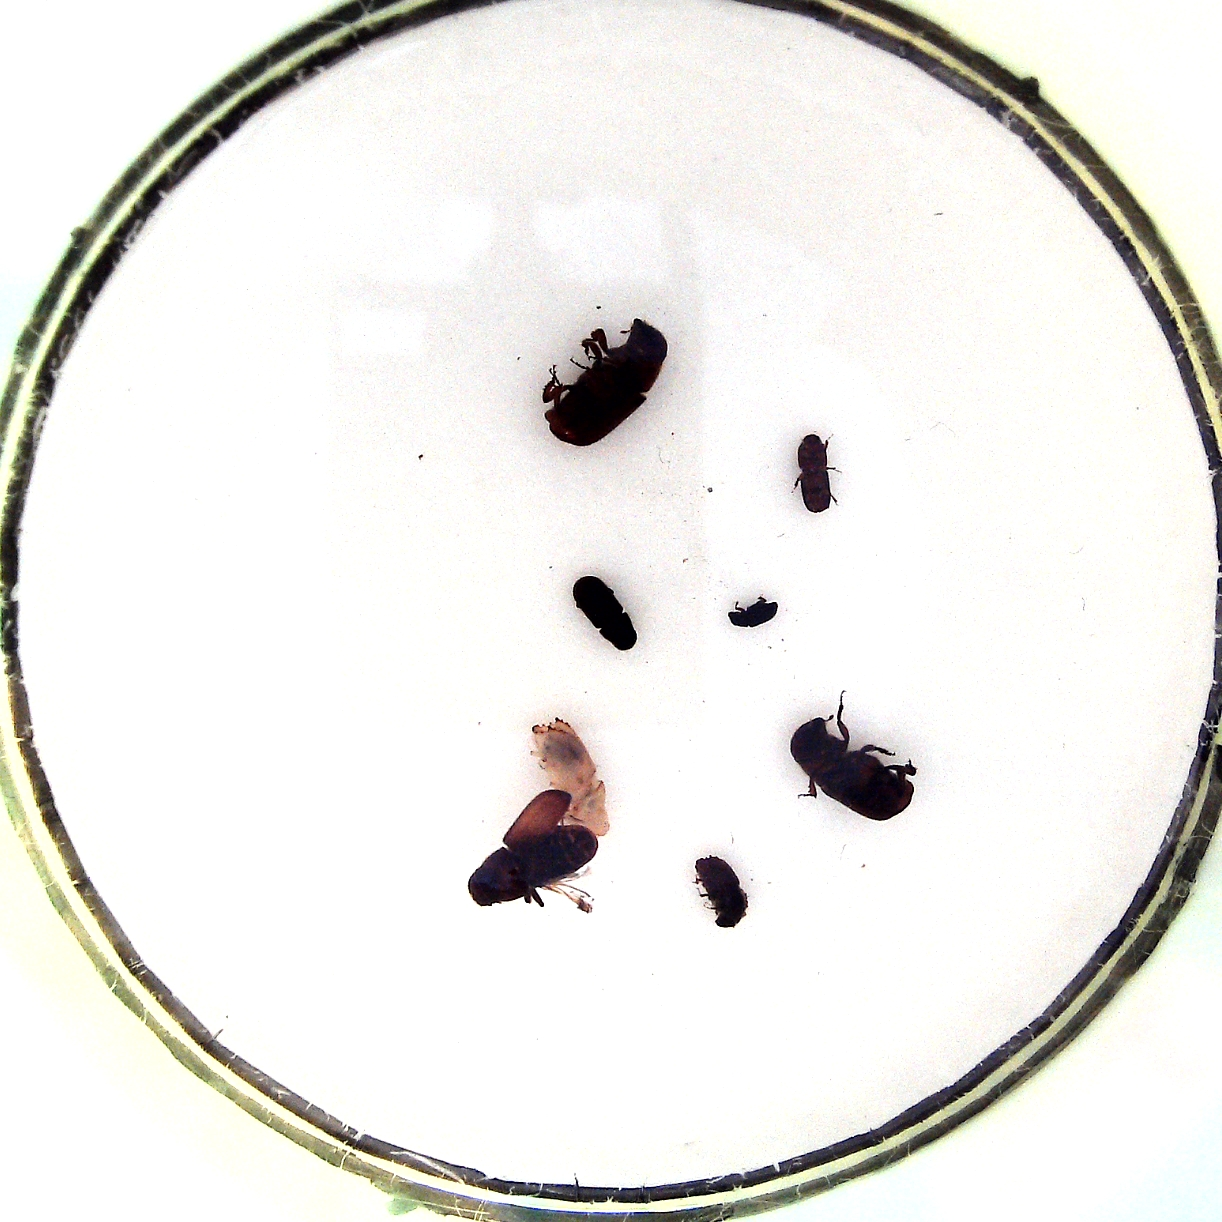Boerner: (532, 714, 609, 829)
Leconte: (539, 317, 667, 446), (463, 789, 600, 909), (788, 707, 918, 822)
Linnaeus: (690, 848, 752, 932)
acuminatus: (791, 429, 837, 514)
armandi: (570, 571, 639, 655)
coleoptera: (722, 592, 783, 629)
